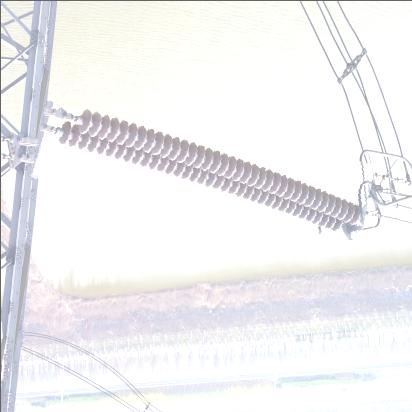insulator: (33, 117, 373, 227)
